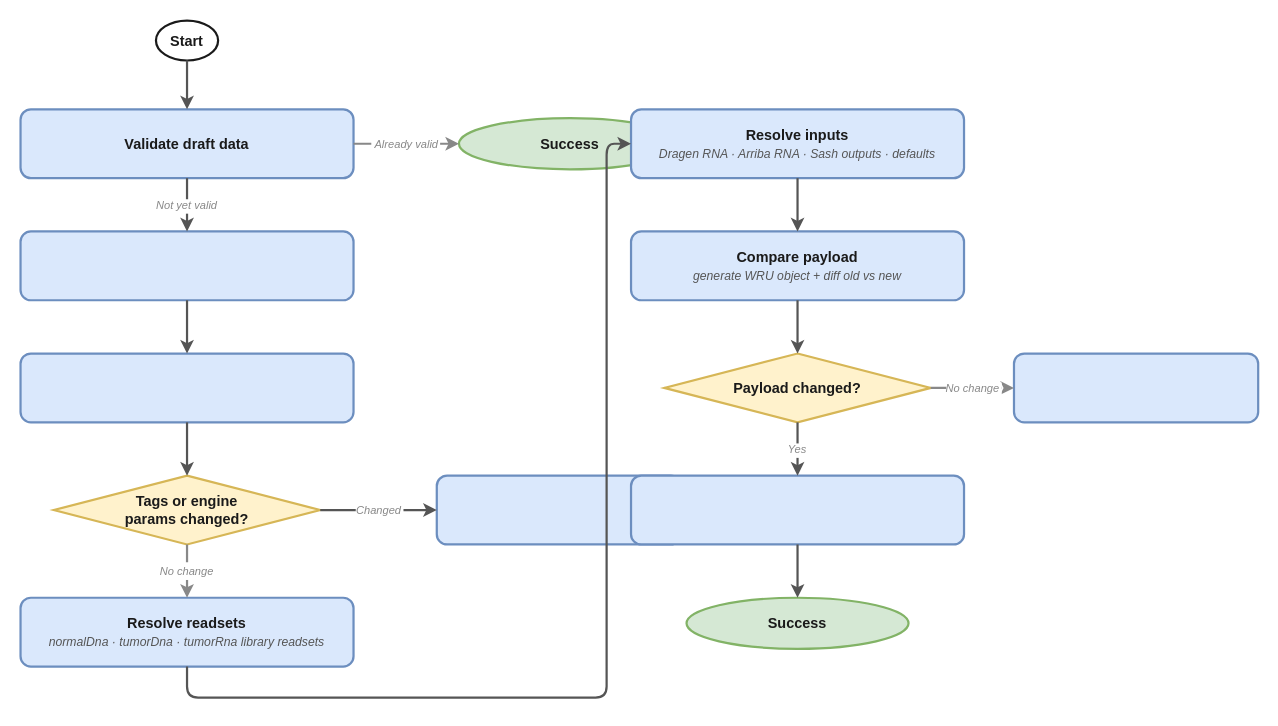
Image size: 1278x726. Some labels were removed from this diagram. The shapes that lost their labels are listed below. From the top down, each one's centre as x and y in pixels, then its label:
(186,265): Resolve library tags normalDna · tumorDna · tumorRna fastqRgidList · metadata
(186,387): Resolve engine parameters projectId · pipelineId · outputUri · logsUri
(1135,387): Report missing fields no change, waiting for upstream
(558,509): Put DRAFT update event tags / params updated
(797,509): Put DRAFT update event fully populated payload
